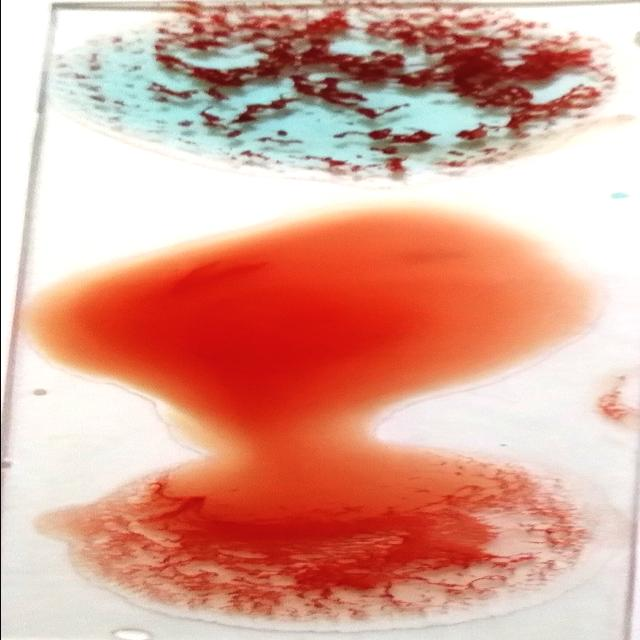A: (86, 9, 602, 156)
D: (74, 518, 570, 620)
